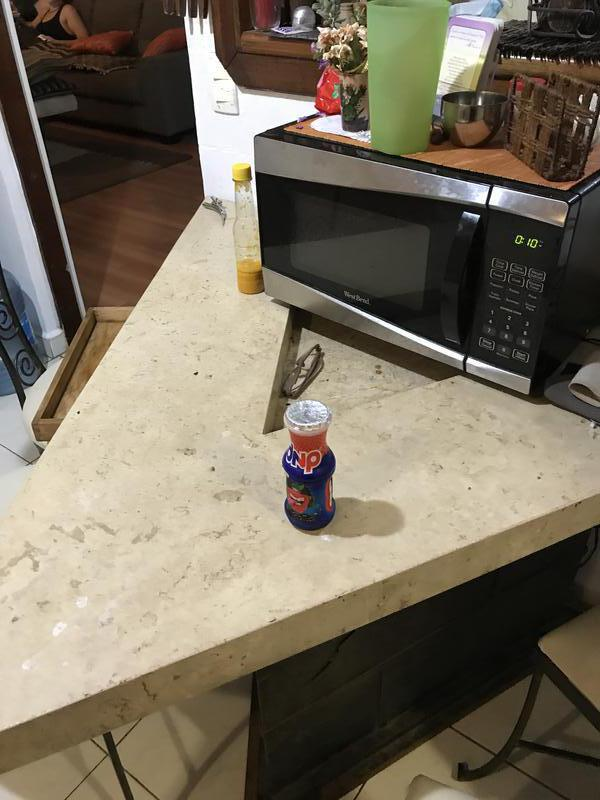danup: (277, 395, 340, 532)
